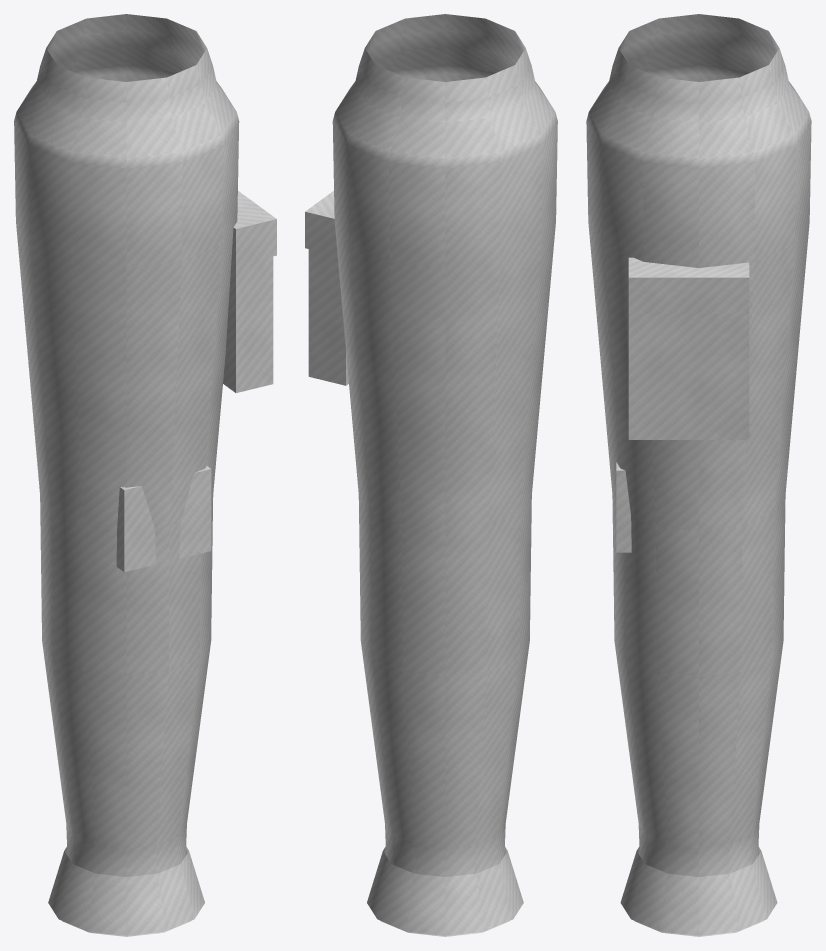
The model's file is pants_cargo_leg_l.glb.
The picture shows the model from 3 angles, left to right: view 1: azimuth 30°, elevation 25°; view 2: azimuth 150°, elevation 25°; view 3: azimuth 270°, elevation 25°; orthographic projection.
Parts seen in each view (by area): view 1: pants_cargo_leg_l; view 2: pants_cargo_leg_l; view 3: pants_cargo_leg_l.
Part boxes in pixels (x1,y1,x2,y2): pants_cargo_leg_l: (14, 14, 276, 936); pants_cargo_leg_l: (305, 14, 557, 936); pants_cargo_leg_l: (586, 14, 811, 936).
Size of the model in its own units: 0.2438 by 0.94 by 0.2237.
1 material, 1 textured.
